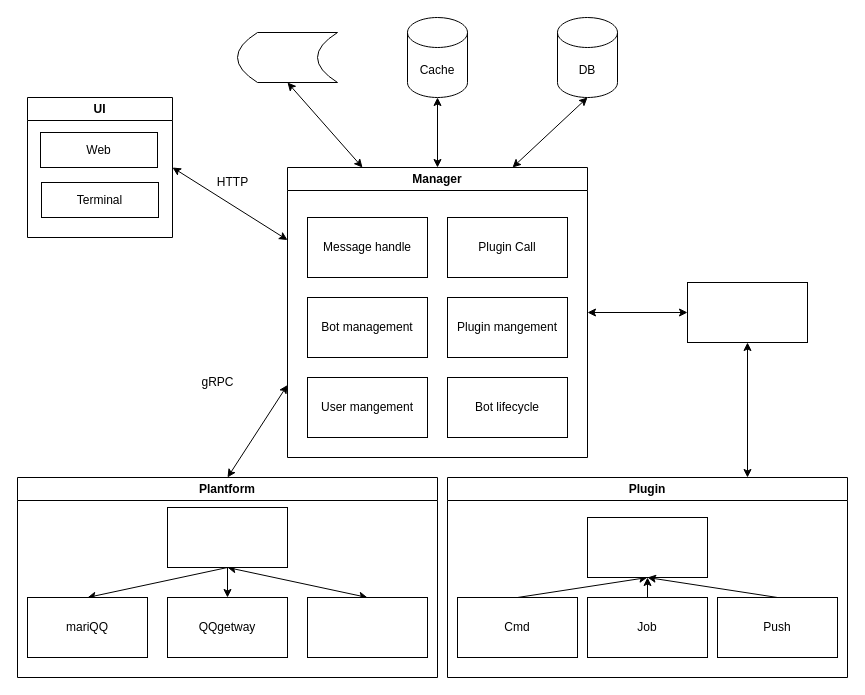
Some shapes in this 865 by 695 pixel diagram are drawn without their labels. Here are the shapes that lost their labels. From the top down, the centre of each, then its label:
At point 287,57: "MQ".
At point 747,312: "Agent".
At point 227,537: "OneBot".
At point 647,547: "VM".
At point 367,627: "Other".
